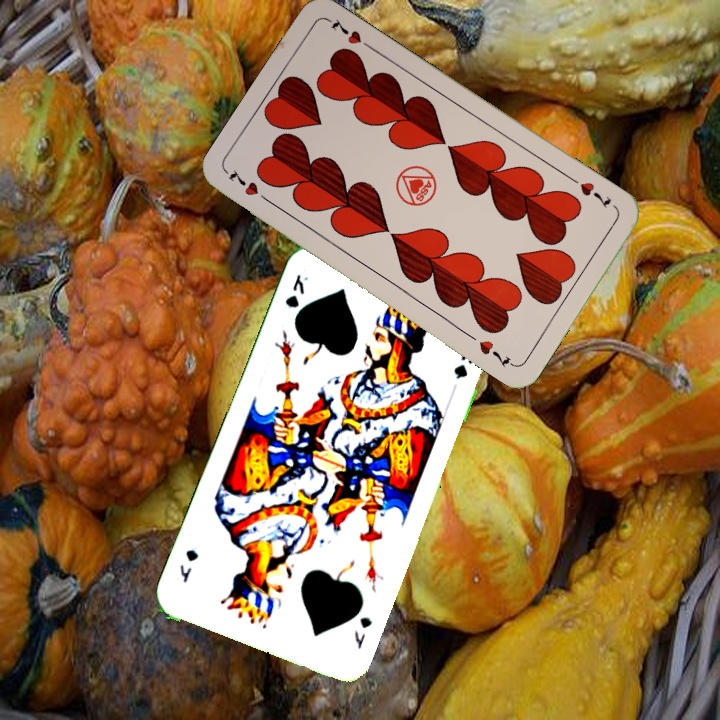GK: (281, 270, 311, 311), (350, 612, 375, 652)
H7: (224, 166, 275, 207), (566, 173, 614, 212)
